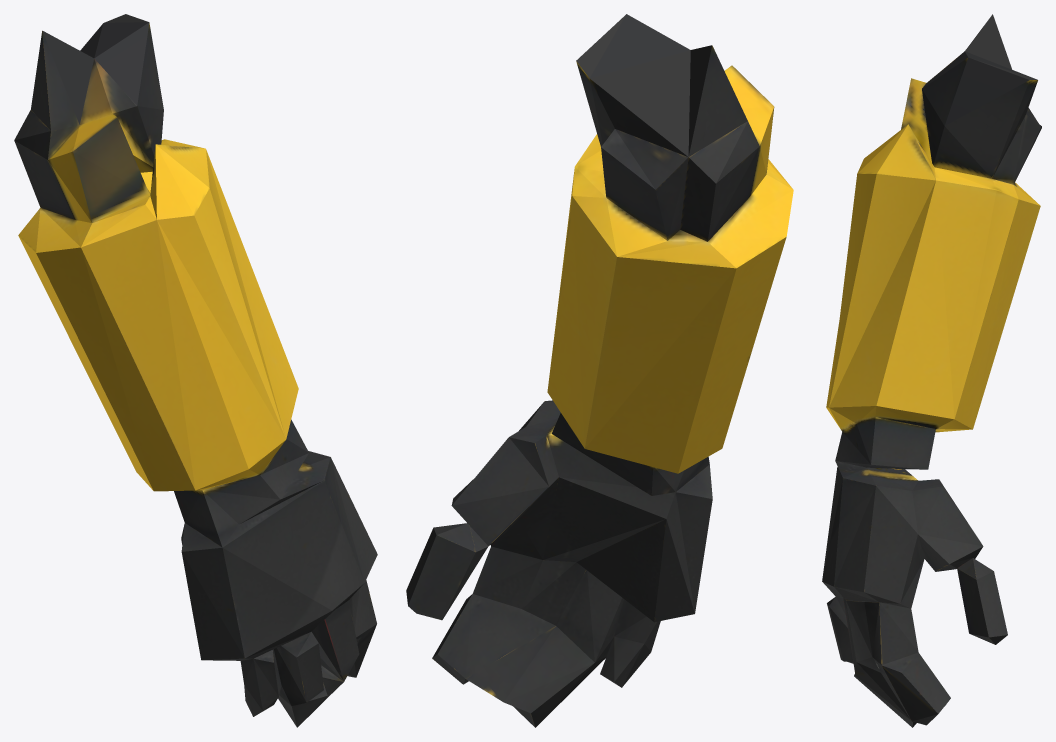
File: SM_ChaserDebris_Forearm_R.fbx
3 views of the same model, side by side, from view 1: azimuth 30°, elevation 25°; view 2: azimuth 150°, elevation 25°; view 3: azimuth 270°, elevation 25° (orthographic). The views are drawn at different scales.
Parts seen in each view (by area): view 1: SM_ChaserDebris_Forearm_R; view 2: SM_ChaserDebris_Forearm_R; view 3: SM_ChaserDebris_Forearm_R.
Boxes of the visible parts, x1,y1,x2,y2 form: SM_ChaserDebris_Forearm_R: (14, 14, 377, 727); SM_ChaserDebris_Forearm_R: (406, 14, 793, 727); SM_ChaserDebris_Forearm_R: (822, 14, 1041, 727).
Bounding box in the file's own units: 19.67 × 41.07 × 13.1.
1 material, 1 textured.
